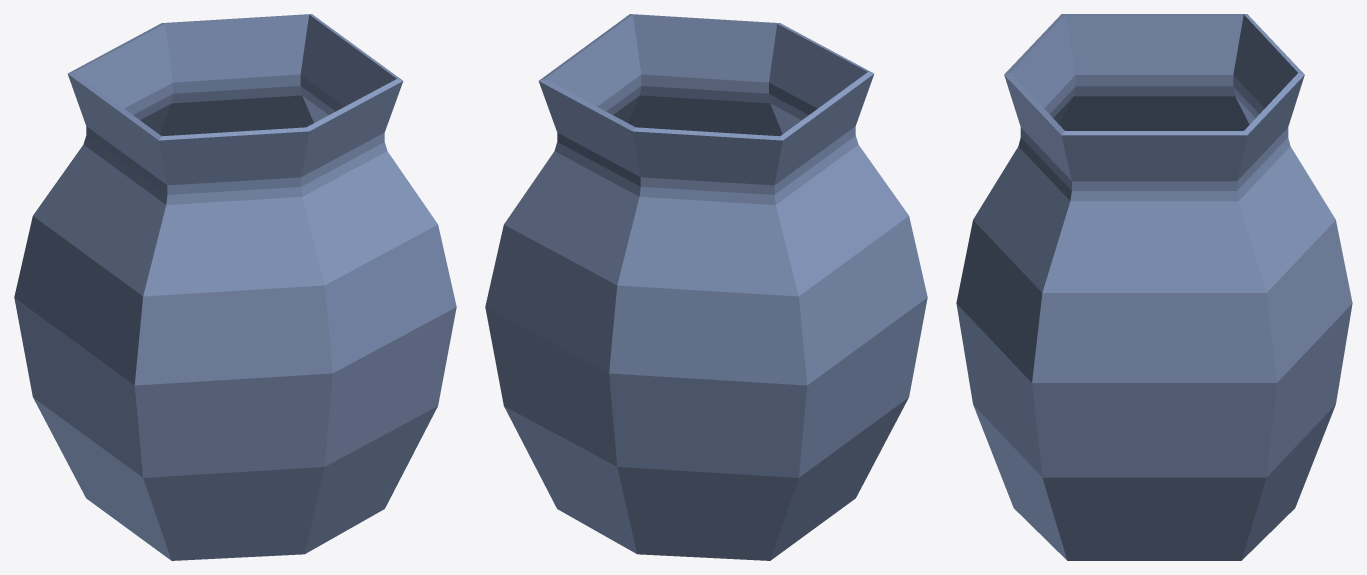
Rendered from Vase.fbx.
The picture shows the model from 3 angles, left to right: view 1: azimuth 30°, elevation 25°; view 2: azimuth 150°, elevation 25°; view 3: azimuth 270°, elevation 25°; orthographic projection.
Parts seen in each view (by area): view 1: Cube; view 2: Cube; view 3: Cube.
Boxes of the visible parts, <box> form: Cube: <box>14,14,456,560</box>; Cube: <box>485,14,927,560</box>; Cube: <box>956,14,1352,560</box>.
Bounding box in the file's own units: 45.04 × 57.24 × 47.21.
